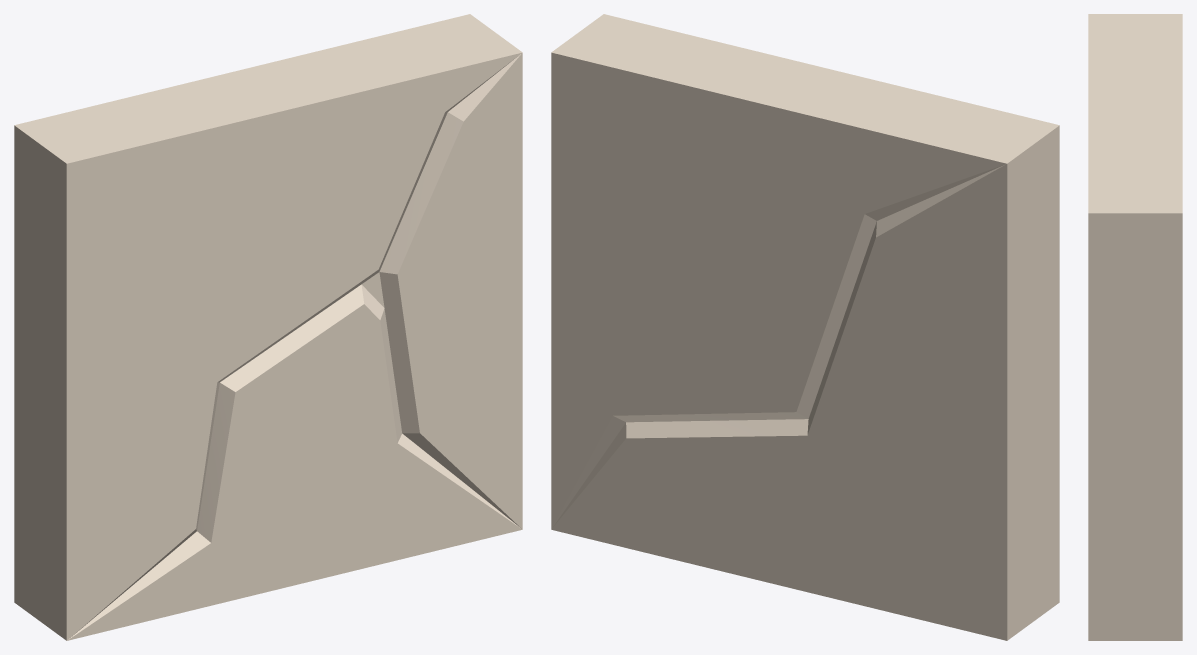
The model's file is Wall_Ruined_Full_Cracked_1.glb.
3 renders of one model, left to right at view 1: azimuth 30°, elevation 25°; view 2: azimuth 150°, elevation 25°; view 3: azimuth 270°, elevation 25°, orthographic. The views are drawn at different scales.
Parts seen in each view (by area): view 1: Wall_Ruined_Full_Cracked_1; view 2: Wall_Ruined_Full_Cracked_1; view 3: Wall_Ruined_Full_Cracked_1.
Boxes of the visible parts, x1,y1,x2,y2 form: Wall_Ruined_Full_Cracked_1: [14, 14, 522, 640]; Wall_Ruined_Full_Cracked_1: [551, 14, 1059, 640]; Wall_Ruined_Full_Cracked_1: [1088, 14, 1182, 640].
Bounding box in the file's own units: 1 × 1 × 0.2.
